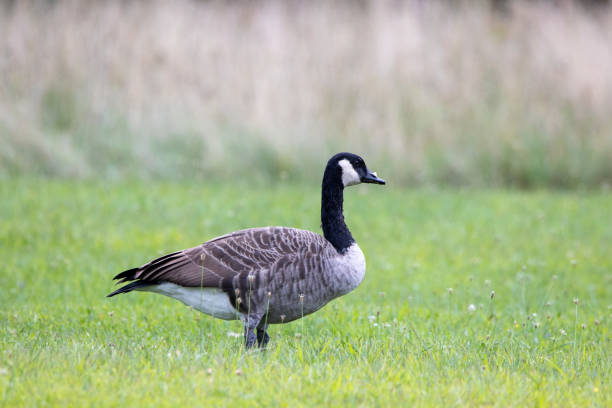goose: (101, 149, 388, 357)
